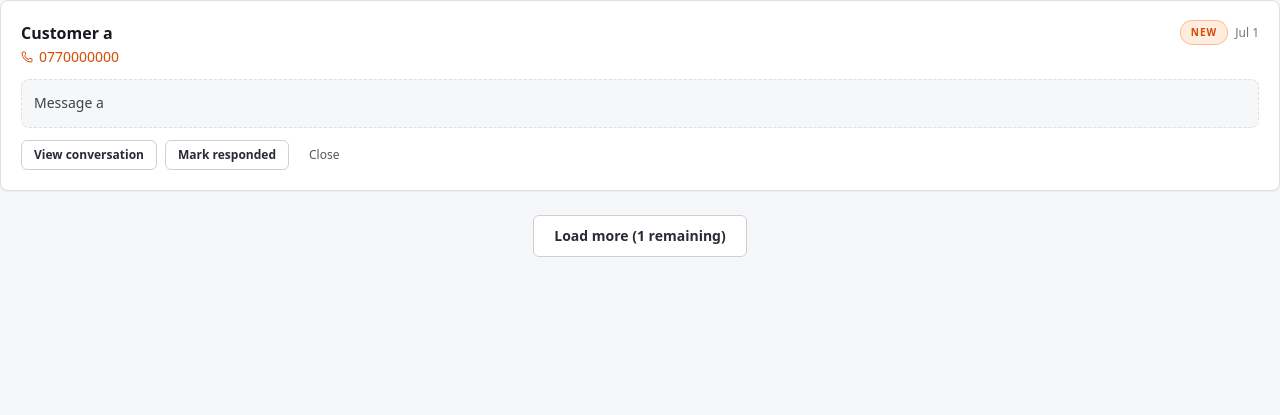
InquiriesList load more › fetches the next page and appends without duplicates
The image size is (1280, 415).
What coordinates should you click on to do the following:
click the button "Load more (1 remaining)"
I would click on:
 (640, 236)
Its box is [533,215,747,257].
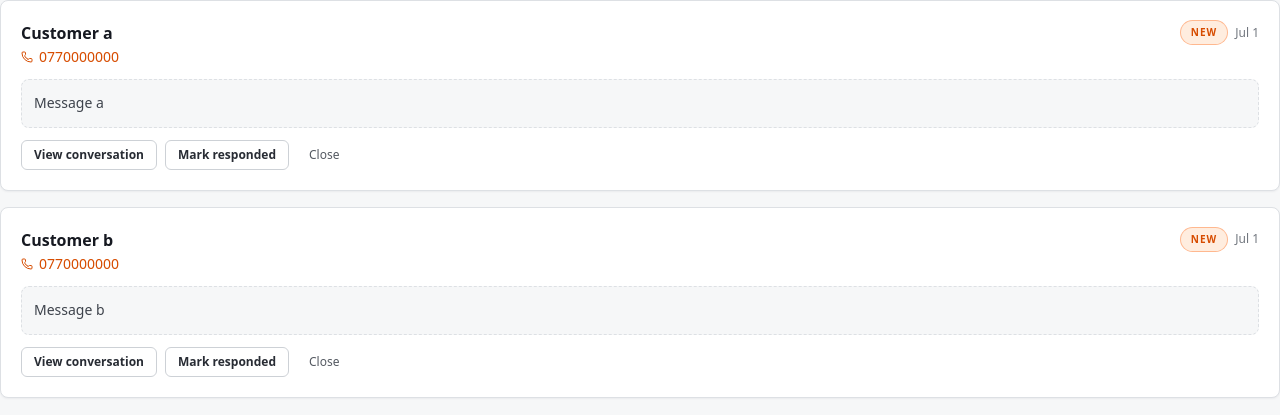
Expected: the text "Customer a" is shown once, [21,21,119,45]
Now the text "Customer b" is shown, box [21,228,119,252]
